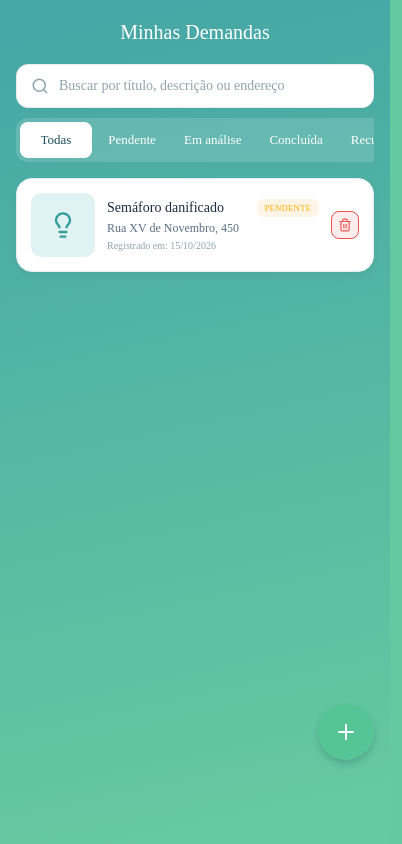
Test case: DemandasListaScreen search and filters › ignores a slow response from an older search that arrives after a newer one
This screenshot has width=402, height=844.
expect the button with test id "demand-card-1" is shown: met, box [16,178,374,272]
Step 1. Click the tab with test id "demandas-status-PENDING" → (132, 140), box [108,132,156,147]
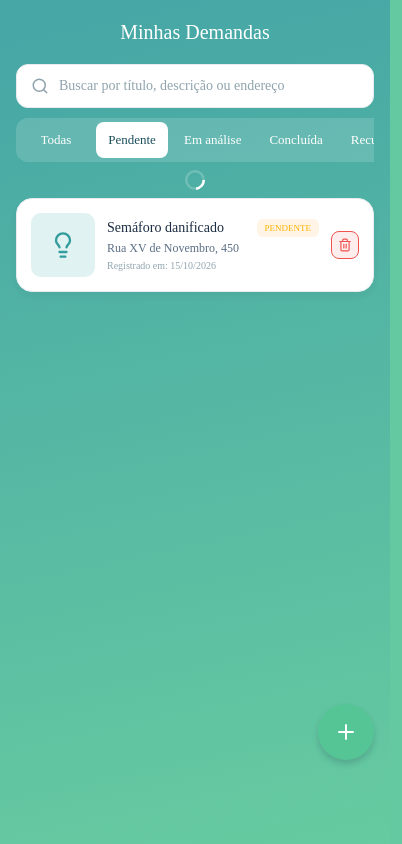
Step 2. Click the tab with test id "demandas-status-RESOLVED" → (296, 140), box [269,132,323,147]
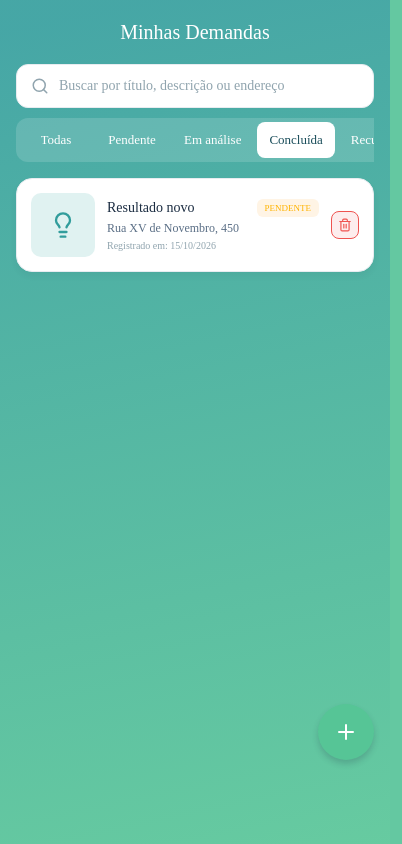
expect the text "Resultado novo" is shown: met, box [107,200,194,215]
